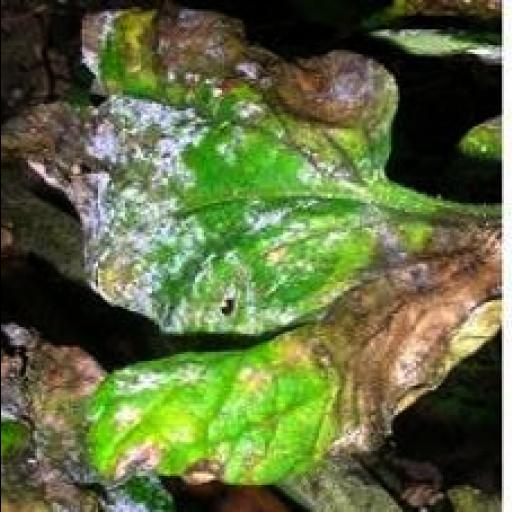Late Blight: (1, 0, 501, 492)
